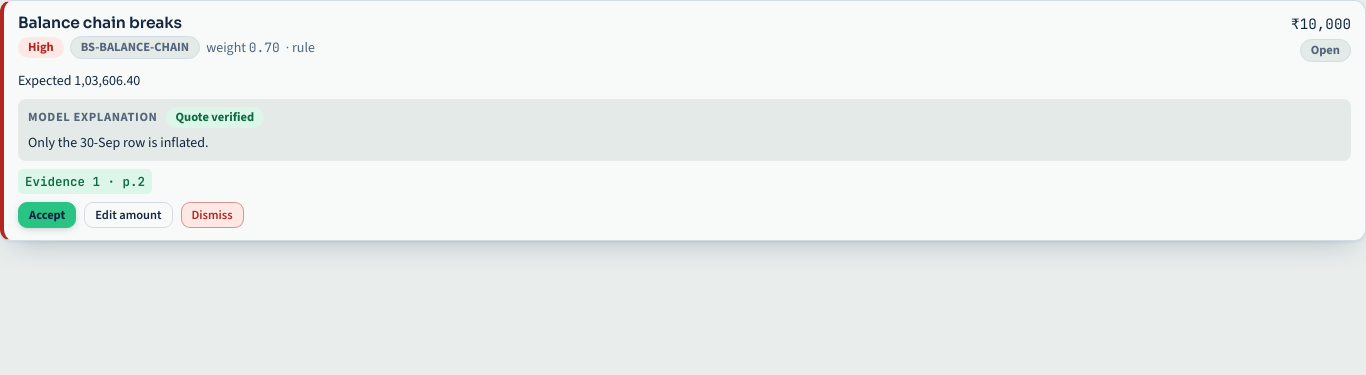
it: FindingCard › requires a reason before dismissing
The image size is (1366, 375).
Click the button "Dismiss".
click(212, 215)  # box [180,202,244,228]
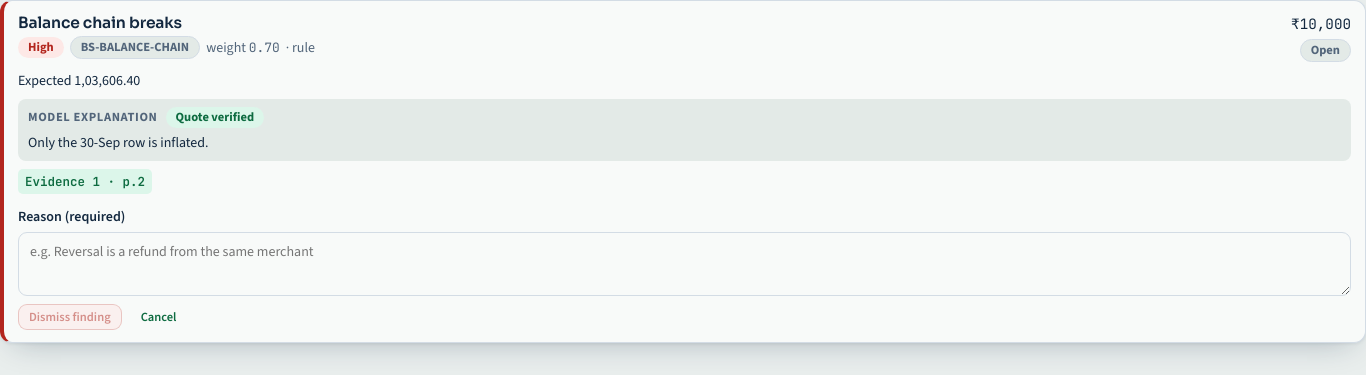
Check: the button "Dismiss finding" is disabled, box [18,304,122,330]
Type "Refund from same merchant" into the text box labelled "Reason (required)".
click(684, 264); type("Refund from same merchant")  # box [18,232,1351,296]
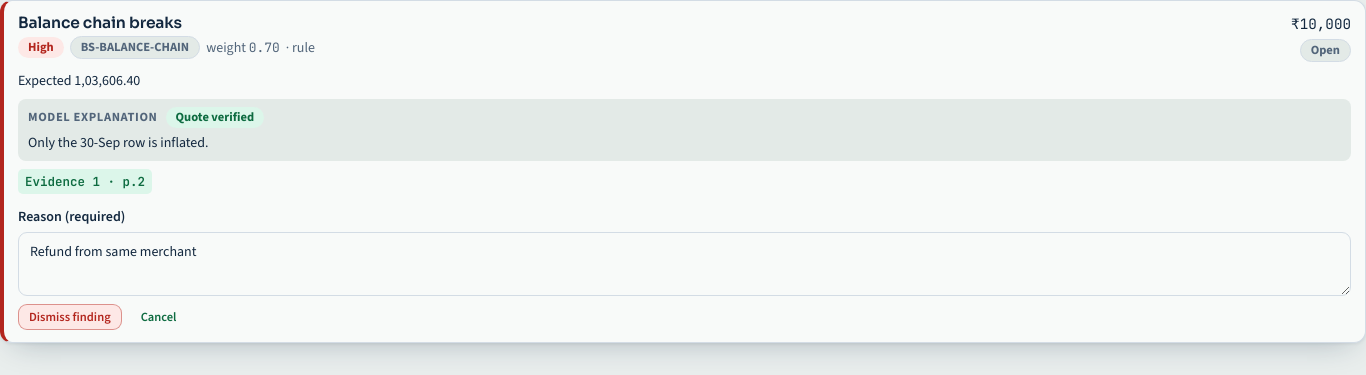
Check: the button "Dismiss finding" is enabled, box [18,304,122,330]
